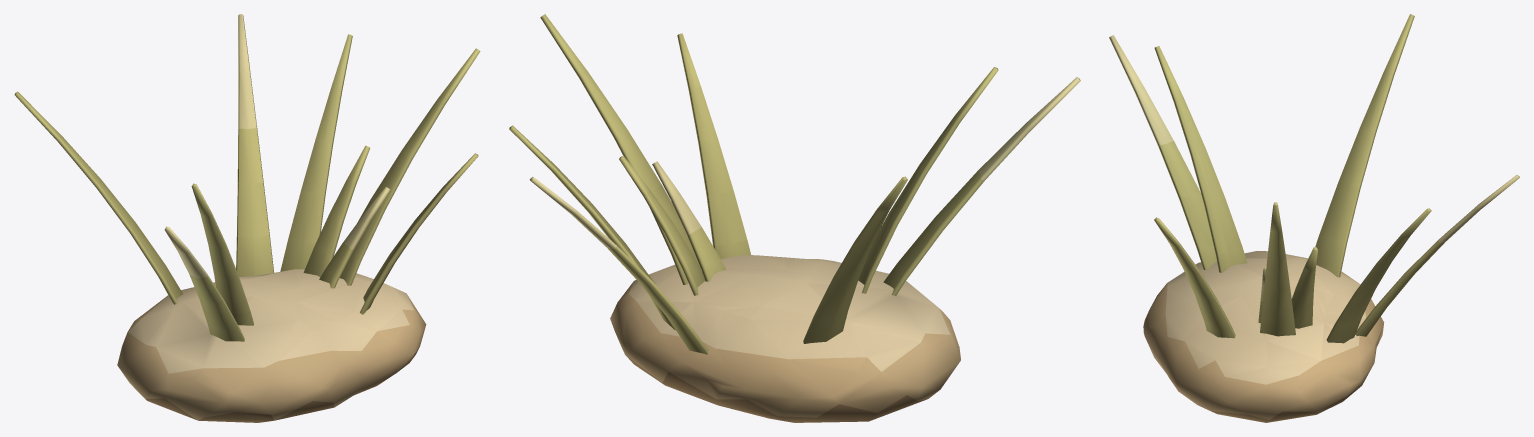
File: shore_marram_c.glb
3 renders of one model, left to right at view 1: azimuth 30°, elevation 25°; view 2: azimuth 150°, elevation 25°; view 3: azimuth 270°, elevation 25°, orthographic. The views are drawn at different scales.
Visible parts, largest first — view 1: shore_marram_c; view 2: shore_marram_c; view 3: shore_marram_c.
Part boxes in pixels (<box>): shore_marram_c: <box>14,14,480,422</box>; shore_marram_c: <box>509,14,1080,422</box>; shore_marram_c: <box>1109,14,1519,422</box>.
Size of the model in its own units: 3.48 by 2.46 by 3.17.
